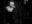person: (6, 7, 12, 14), (22, 0, 28, 6), (9, 1, 15, 6)
